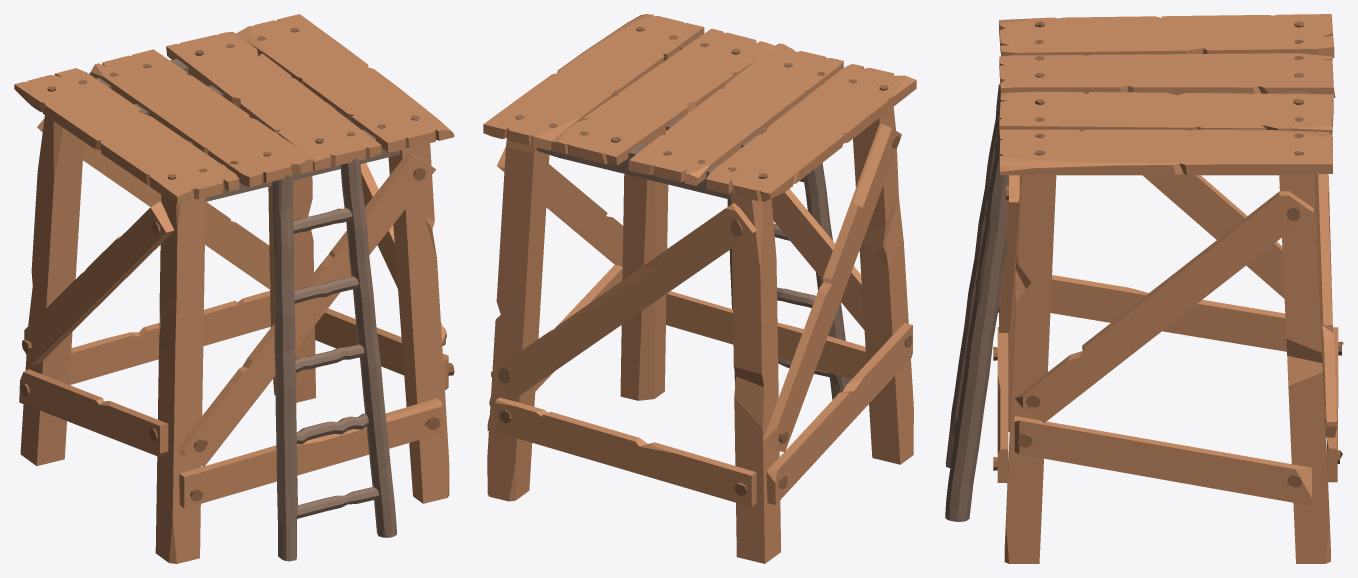
File: guard-tower-L1.fbx
3 views of the same model, side by side, from view 1: azimuth 30°, elevation 25°; view 2: azimuth 150°, elevation 25°; view 3: azimuth 270°, elevation 25° (orthographic). The views are drawn at different scales.
Parts seen in each view (by area): view 1: guard-tower-L1; view 2: guard-tower-L1; view 3: guard-tower-L1.
Boxes of the visible parts, x1,y1,x2,y2 form: guard-tower-L1: (14,14,454,563); guard-tower-L1: (483,14,916,563); guard-tower-L1: (945,14,1343,563).
Bounding box in the file's own units: 275 × 332 × 297.
